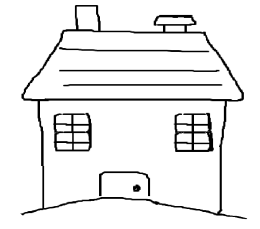big_house: (0, 0, 259, 229)
chimney: (149, 9, 199, 46), (67, 1, 104, 40)
closed_window: (168, 108, 218, 159), (48, 107, 100, 154)
door: (92, 162, 154, 206)
roof: (18, 25, 245, 110)
wall: (31, 90, 232, 213)
